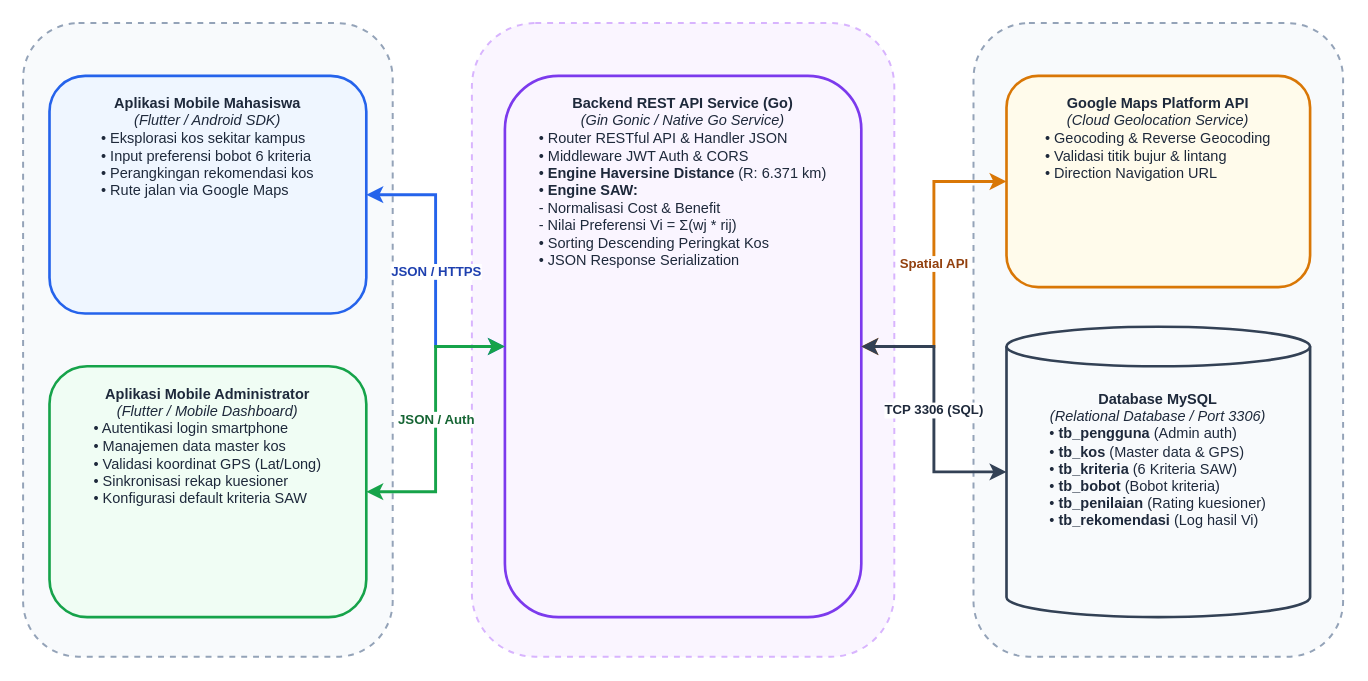
Image size: 1368x681. Some labels were removed from this diagram. The shapes that lost their labels are listed below. From the top down, each one's box as (x1, y1, x2, y2) in pixels, then its label:
(22, 22, 393, 657): FRONTEND LAYER (MOBILE ANDROID)
(470, 22, 895, 657): BACKEND SERVICES LAYER (GO)
(972, 22, 1343, 657): DATA & EXTERNAL API LAYER
